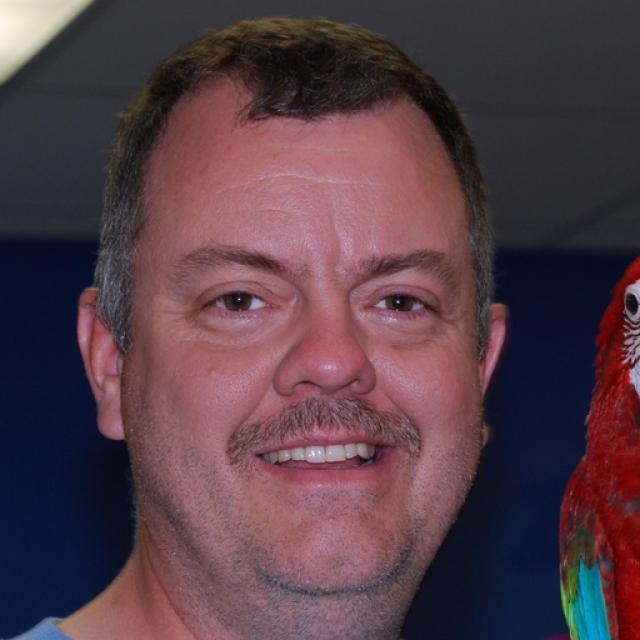happy: (118, 97, 482, 598)
